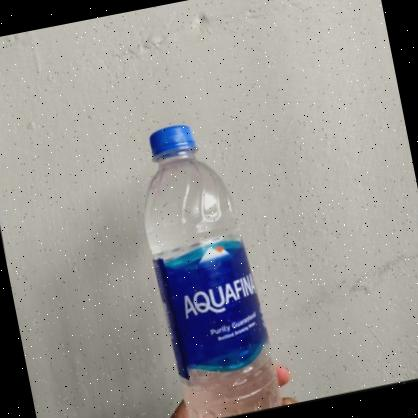bottle: (125, 111, 285, 418)
cap: (146, 122, 198, 160)
label: (152, 240, 274, 384)
